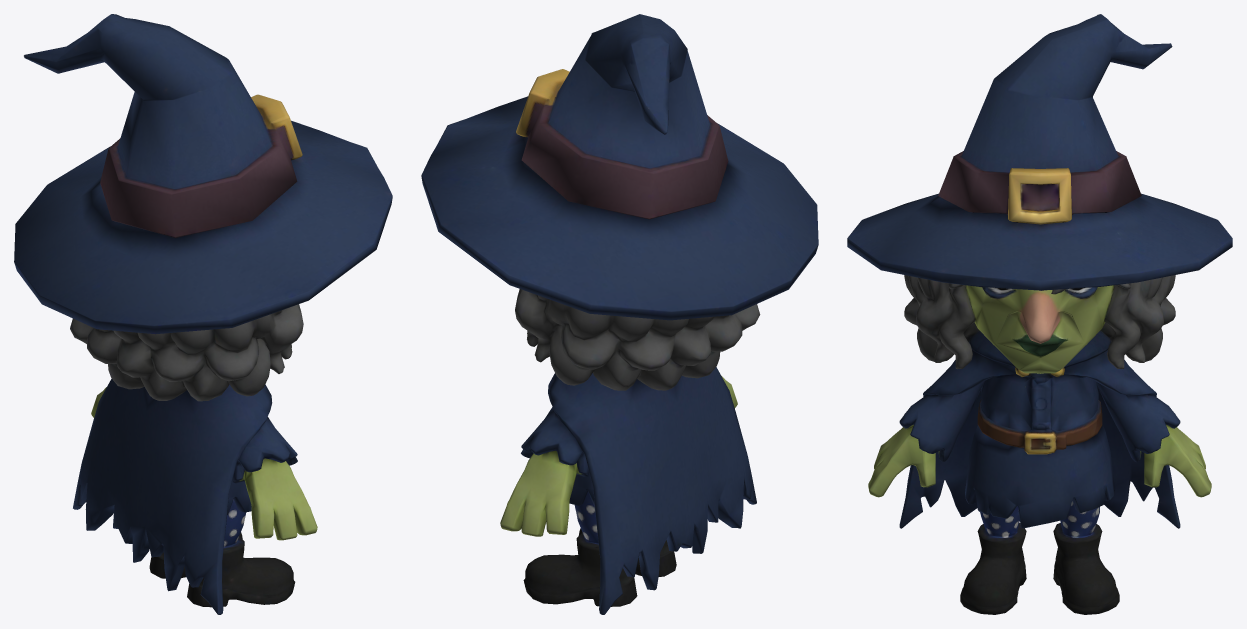
The model's file is tripo_convert_625bb06c-bb54-459f-8c4a-ad191da51e4c.fbx.
The picture shows the model from 3 angles, left to right: view 1: azimuth 30°, elevation 25°; view 2: azimuth 150°, elevation 25°; view 3: azimuth 270°, elevation 25°; orthographic projection. The views are drawn at different scales.
Visible parts, largest first — view 1: tripo_node_625bb06c; view 2: tripo_node_625bb06c; view 3: tripo_node_625bb06c.
Boxes of the visible parts, <box> form: tripo_node_625bb06c: <box>14,14,392,614</box>; tripo_node_625bb06c: <box>421,14,818,614</box>; tripo_node_625bb06c: <box>847,14,1232,614</box>.
Bounding box in the file's own units: 0.6165 × 1 × 0.6478.
1 material, 1 textured.
